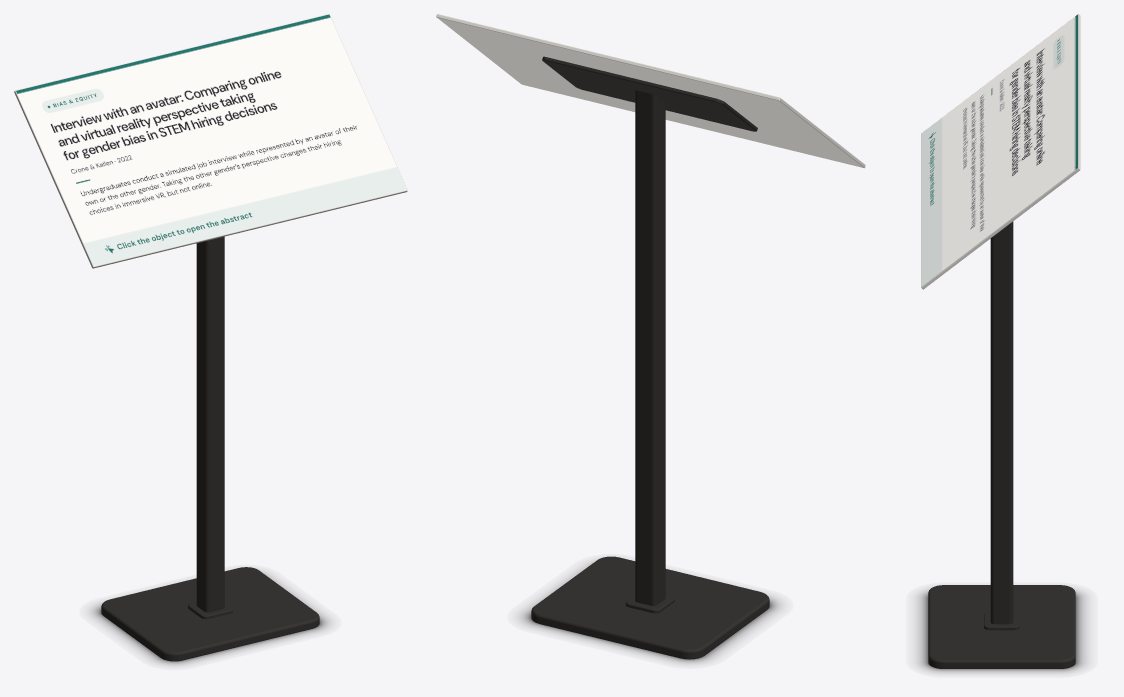
Rendered from plaque-crone-2022-stand.glb.
3 renders of one model, left to right at view 1: azimuth 30°, elevation 25°; view 2: azimuth 150°, elevation 25°; view 3: azimuth 270°, elevation 25°, orthographic. The views are drawn at different scales.
Visible parts, largest first — view 1: board, stand; view 2: stand, board; view 3: board, stand.
Part boxes in pixels (x1=…): board: x1=14, y1=14, x2=407, y2=268; stand: x1=91, y1=236, x2=329, y2=664; stand: x1=520, y1=56, x2=779, y2=663; board: x1=436, y1=14, x2=865, y2=168; board: x1=921, y1=14, x2=1080, y2=289; stand: x1=918, y1=221, x2=1085, y2=672.
Bounding box in the file's own units: 0.643 × 1.05 × 0.38.
4 materials, 2 textured.
